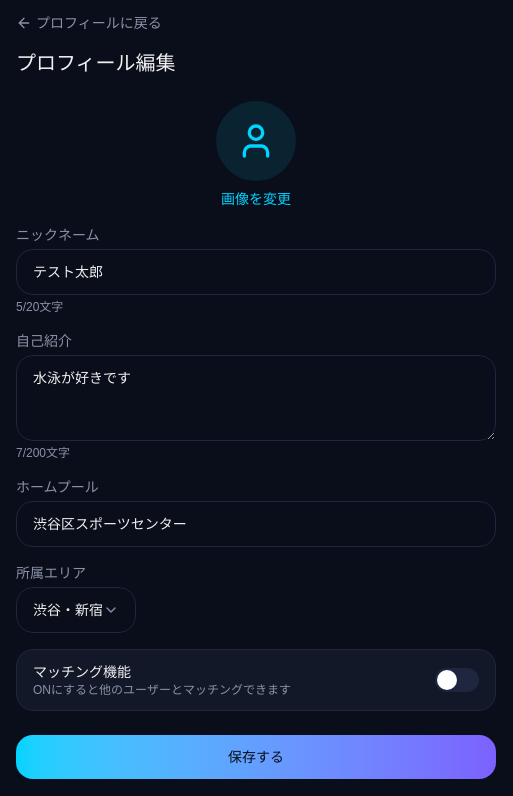
ProfileEditPage › ニックネーム入力で文字数カウンターが更新される
Replace the text in the field labelled "ニックネーム" with "abc": (256, 272) [16,249,496,295]
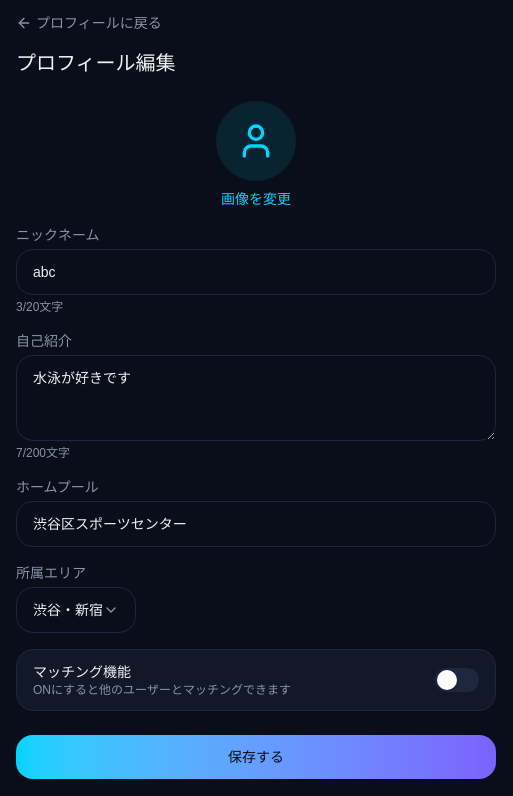
Result: the text "3/20文字" is shown at [16,300,63,314]
